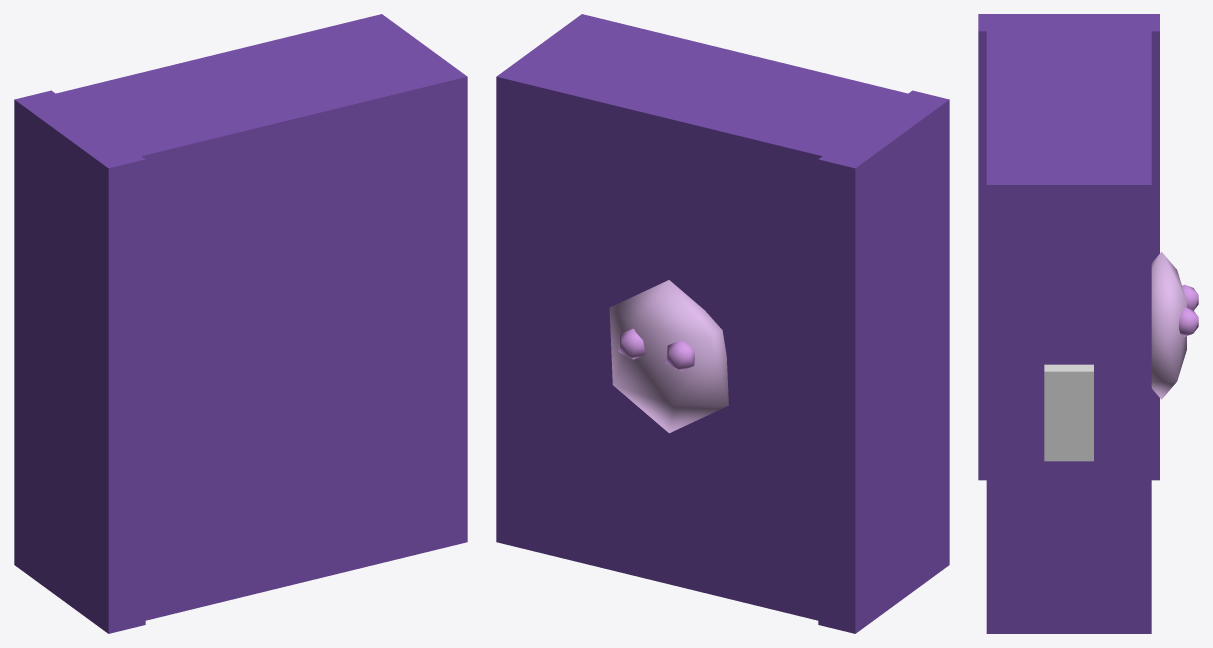
File: crystal_storm.glb
3 views of the same model, side by side, from view 1: azimuth 30°, elevation 25°; view 2: azimuth 150°, elevation 25°; view 3: azimuth 270°, elevation 25° (orthographic). The views are drawn at different scales.
Parts seen in each view (by area): view 1: crystal_storm_v0; view 2: crystal_storm_v0; view 3: crystal_storm_v0.
Boxes of the visible parts, x1,y1,x2,y2 form: crystal_storm_v0: (14, 14, 467, 633); crystal_storm_v0: (496, 14, 949, 633); crystal_storm_v0: (978, 14, 1198, 633).
Size of the model in its own units: 0.255 by 0.3 by 0.1335.
